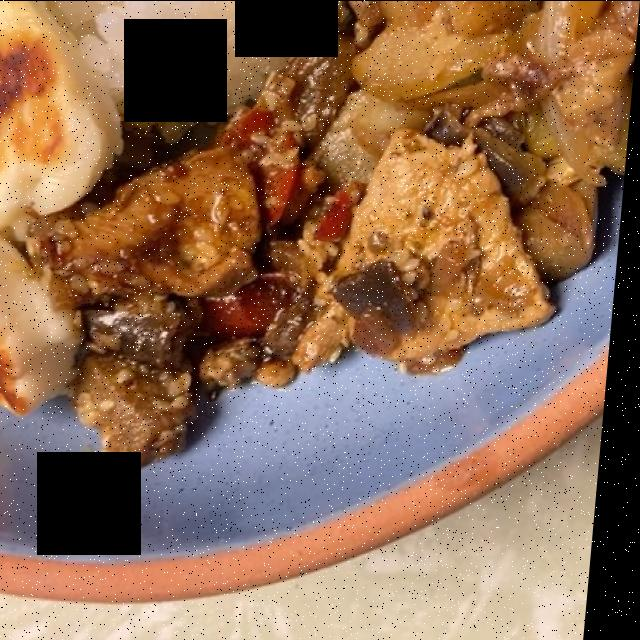bell-pepper-red-raw: (201, 111, 368, 342)
